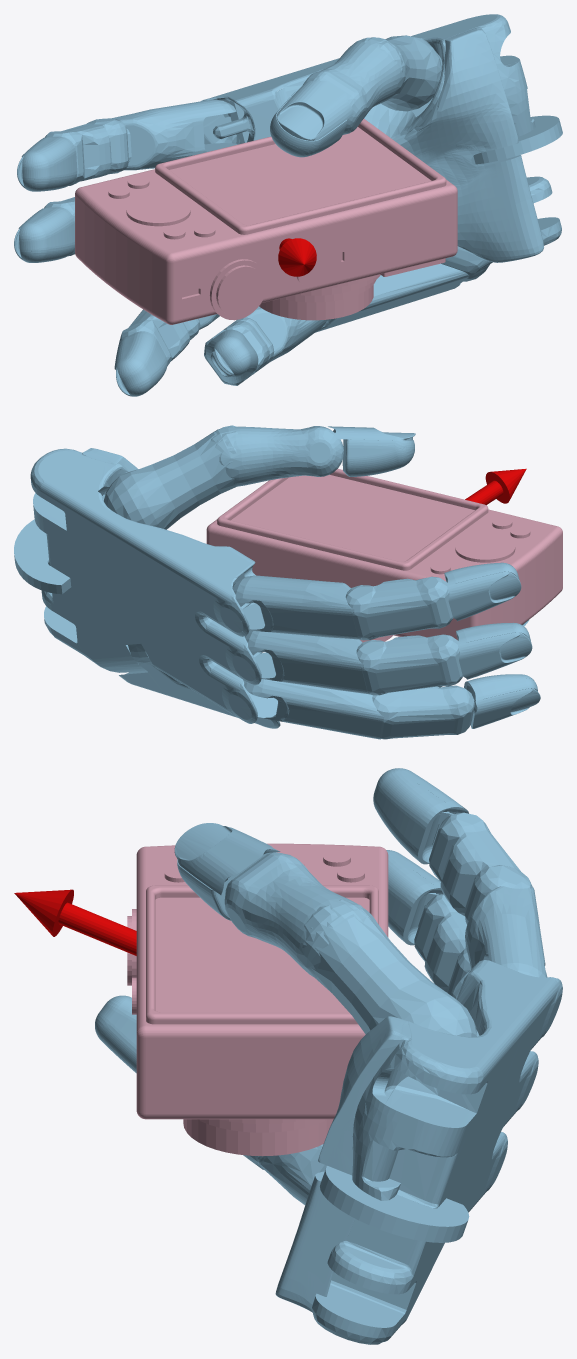
The picture shows the model from 3 angles, top to bottom: view 1: azimuth 30°, elevation 25°; view 2: azimuth 150°, elevation 25°; view 3: azimuth 270°, elevation 25°; orthographic projection. The views are drawn at different scales.
Visible parts, largest first — view 1: world, camera.stl; view 2: world, camera.stl; view 3: world, camera.stl.
Part boxes in pixels (<box>): world: <box>14,14,562,396</box>; camera.stl: <box>75,119,457,324</box>; world: <box>14,425,540,739</box>; camera.stl: <box>206,469,562,642</box>; world: <box>14,768,562,1344</box>; camera.stl: <box>127,843,388,1156</box>.
Size of the model in its own units: 0.2111 by 0.1097 by 0.1411.
